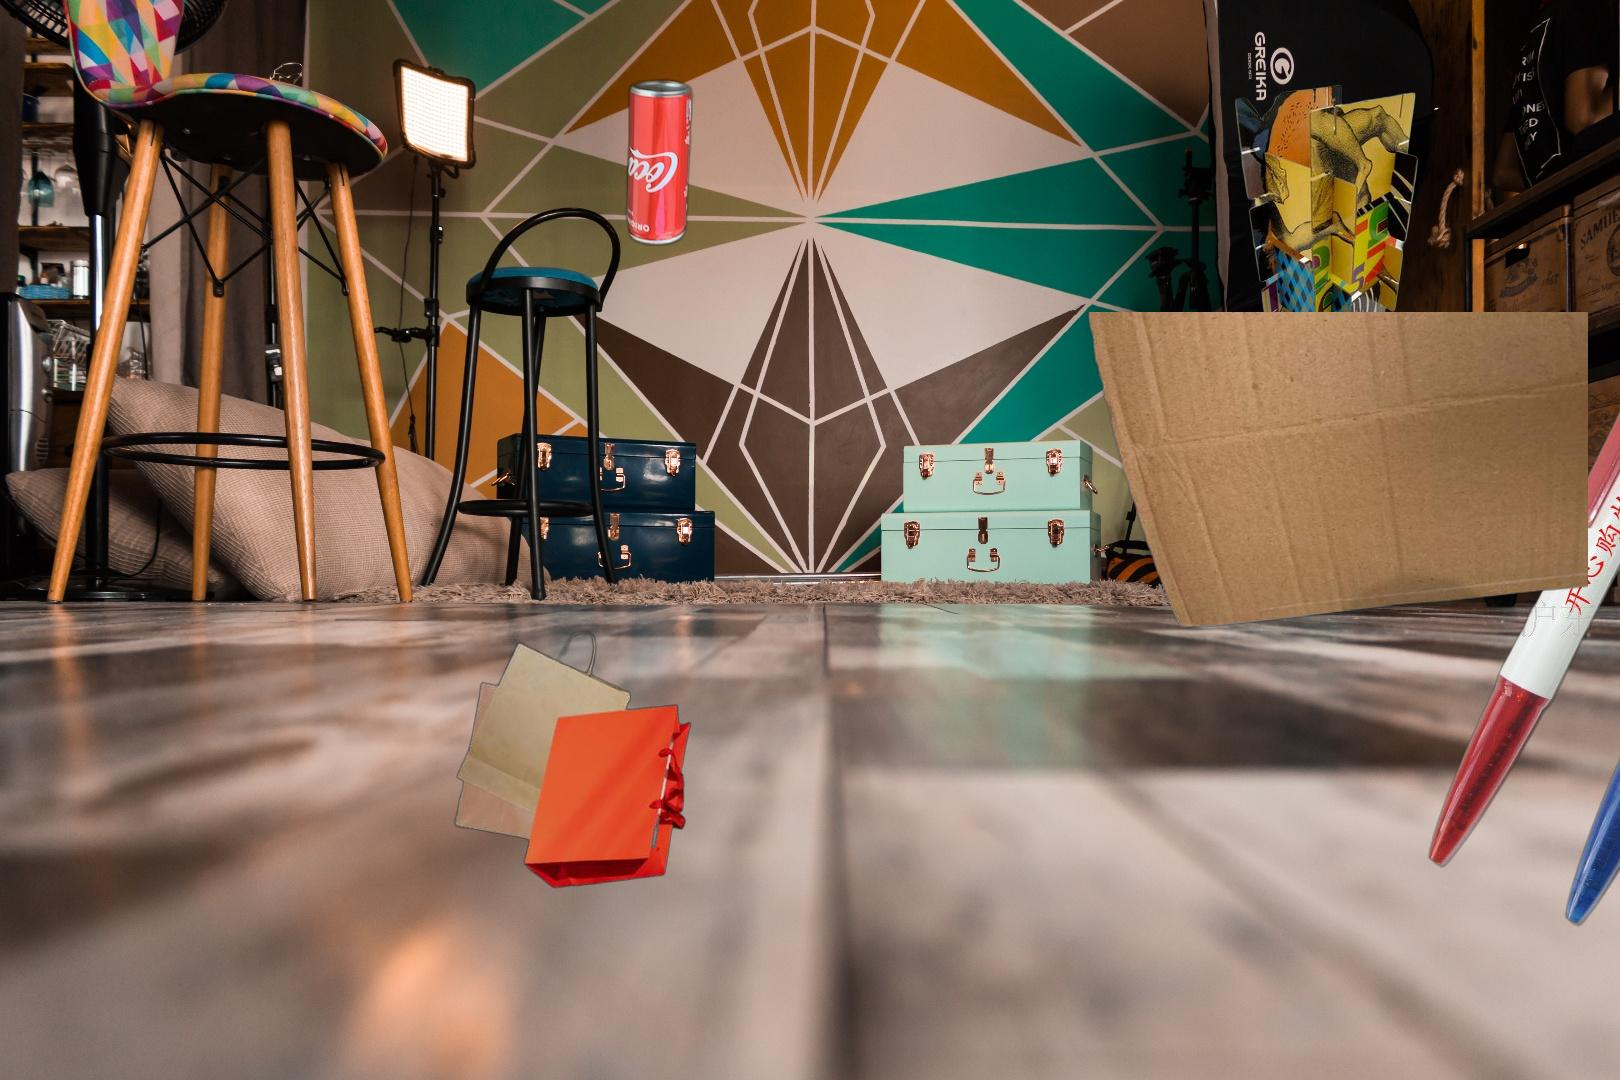metal-cans: (622, 74, 695, 252)
paper-bag: (452, 626, 694, 890)
penholder: (1425, 293, 1620, 931)
trashbox-cardboard: (1076, 312, 1587, 630), (1232, 84, 1421, 388)
